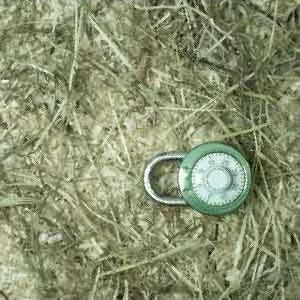lock: (144, 140, 255, 216)
